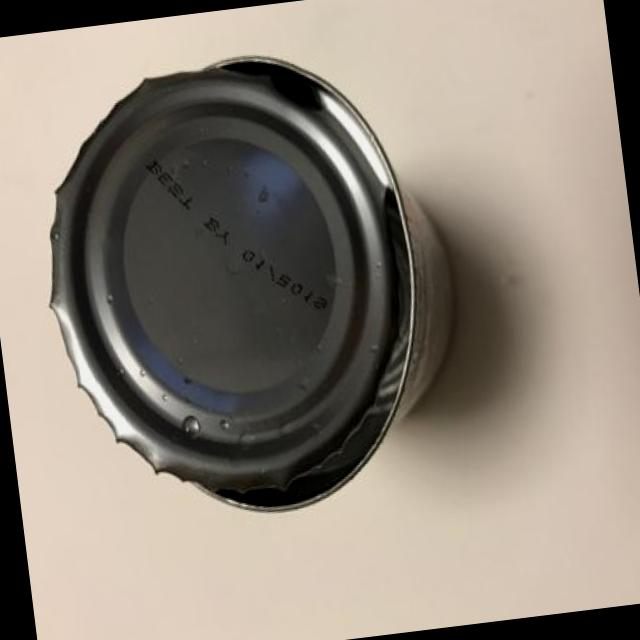kim_loai: (47, 53, 454, 514)
